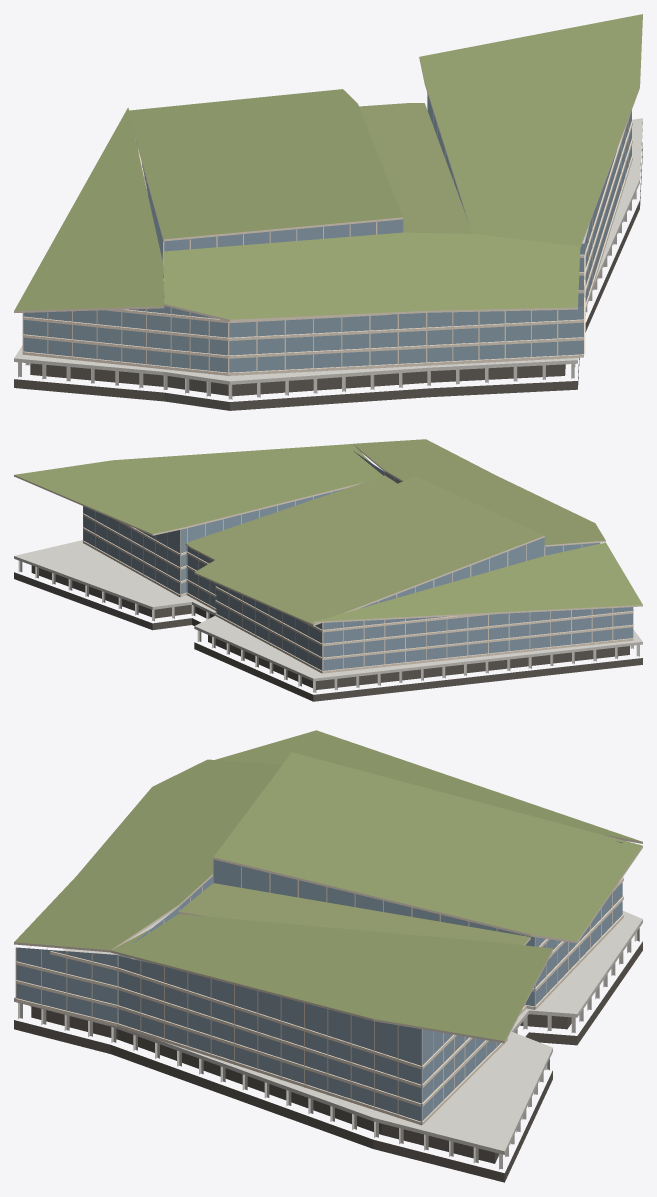
File: van-convention-centre-west.glb
The picture shows the model from 3 angles, top to bottom: view 1: azimuth 30°, elevation 25°; view 2: azimuth 150°, elevation 25°; view 3: azimuth 270°, elevation 25°; orthographic projection. The views are drawn at different scales.
Visible parts, largest first — view 1: Vancouver Convention Centre West; view 2: Vancouver Convention Centre West; view 3: Vancouver Convention Centre West.
Part boxes in pixels (bbox=[...]): Vancouver Convention Centre West: bbox=[14, 14, 642, 410]; Vancouver Convention Centre West: bbox=[14, 439, 642, 701]; Vancouver Convention Centre West: bbox=[14, 730, 642, 1182].
Size of the model in its own units: 254 by 45.19 by 182.
